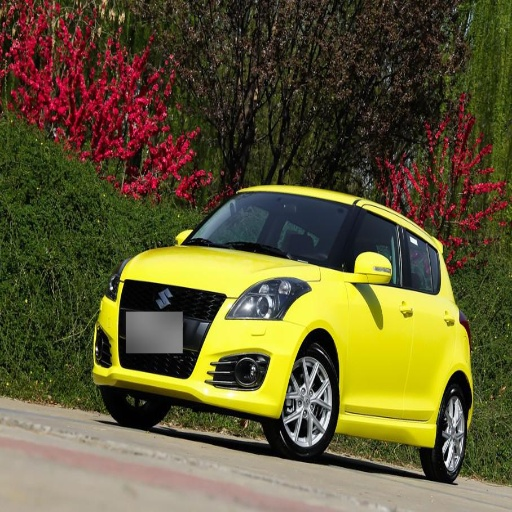front_bumper: (93, 279, 301, 415)
front_glass: (185, 194, 353, 266)
front_left_door: (347, 210, 413, 413)
